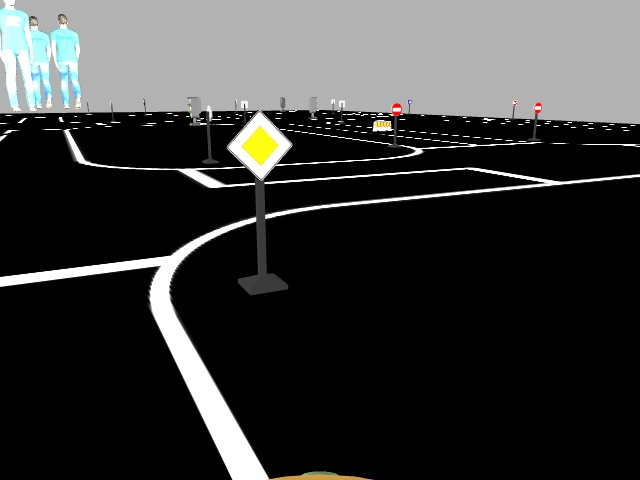ClosedRoadStand: (372, 118, 391, 132)
NoEntry: (388, 101, 402, 116), (532, 101, 543, 115)
Priority: (224, 108, 293, 181)
